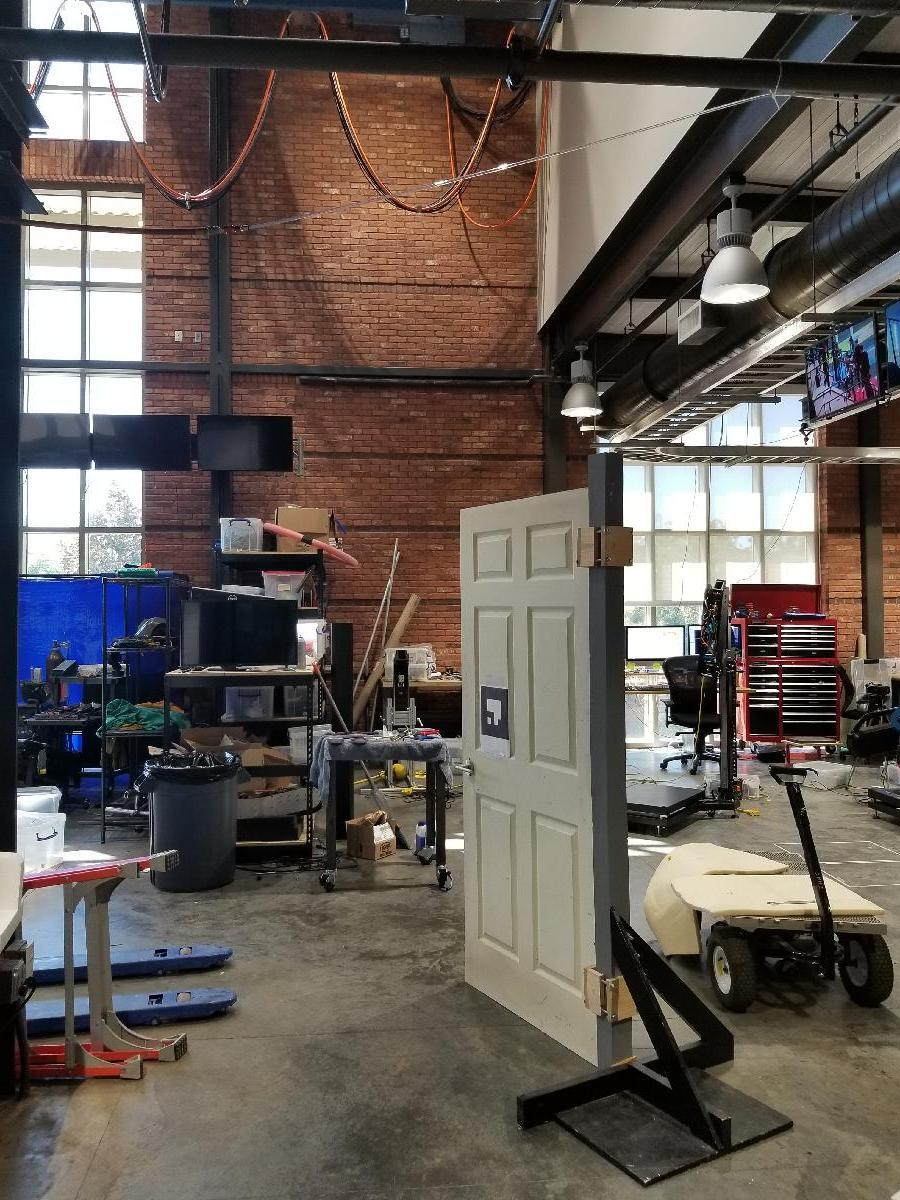door: (459, 485, 586, 1044)
handle: (453, 755, 476, 778)
